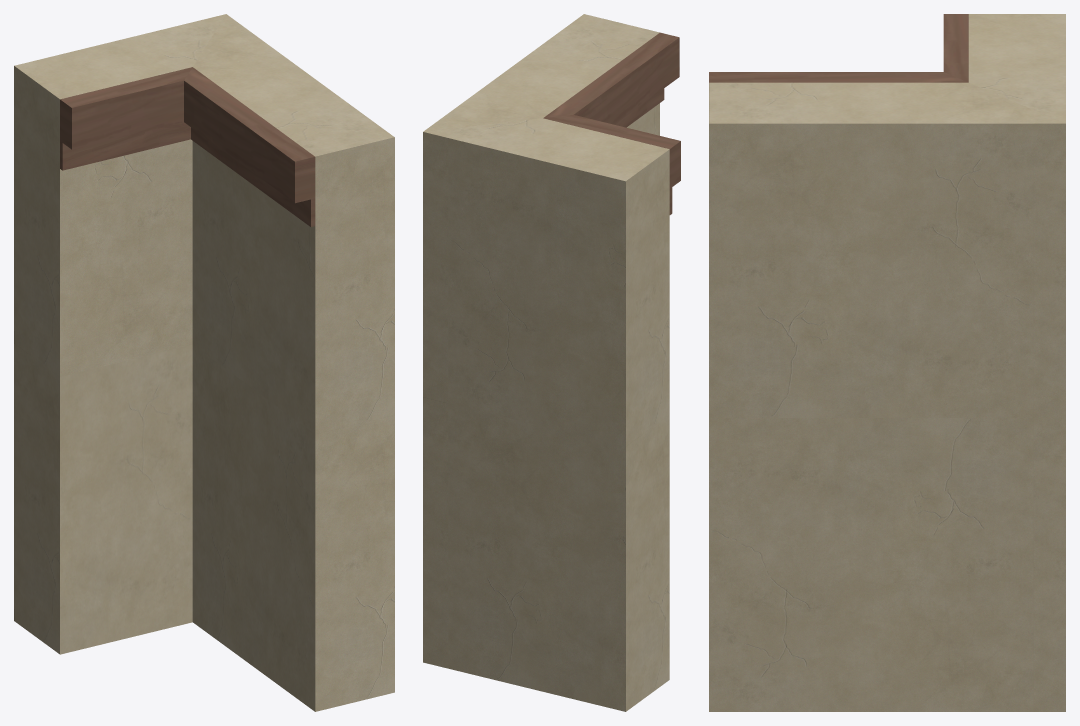
File: RightCornerWall.obj
3 views of the same model, side by side, from view 1: azimuth 30°, elevation 25°; view 2: azimuth 150°, elevation 25°; view 3: azimuth 270°, elevation 25° (orthographic). The views are drawn at different scales.
Parts seen in each view (by area): view 1: Right_Corner_Wall_Tavern_Interior_Atlas; view 2: Right_Corner_Wall_Tavern_Interior_Atlas; view 3: Right_Corner_Wall_Tavern_Interior_Atlas.
Boxes of the visible parts, x1,y1,x2,y2 form: Right_Corner_Wall_Tavern_Interior_Atlas: [14, 14, 394, 711]; Right_Corner_Wall_Tavern_Interior_Atlas: [423, 14, 680, 711]; Right_Corner_Wall_Tavern_Interior_Atlas: [709, 14, 1065, 711].
Bounding box in the file's own units: 1.6 × 4 × 2.2.
1 material, 1 textured.
